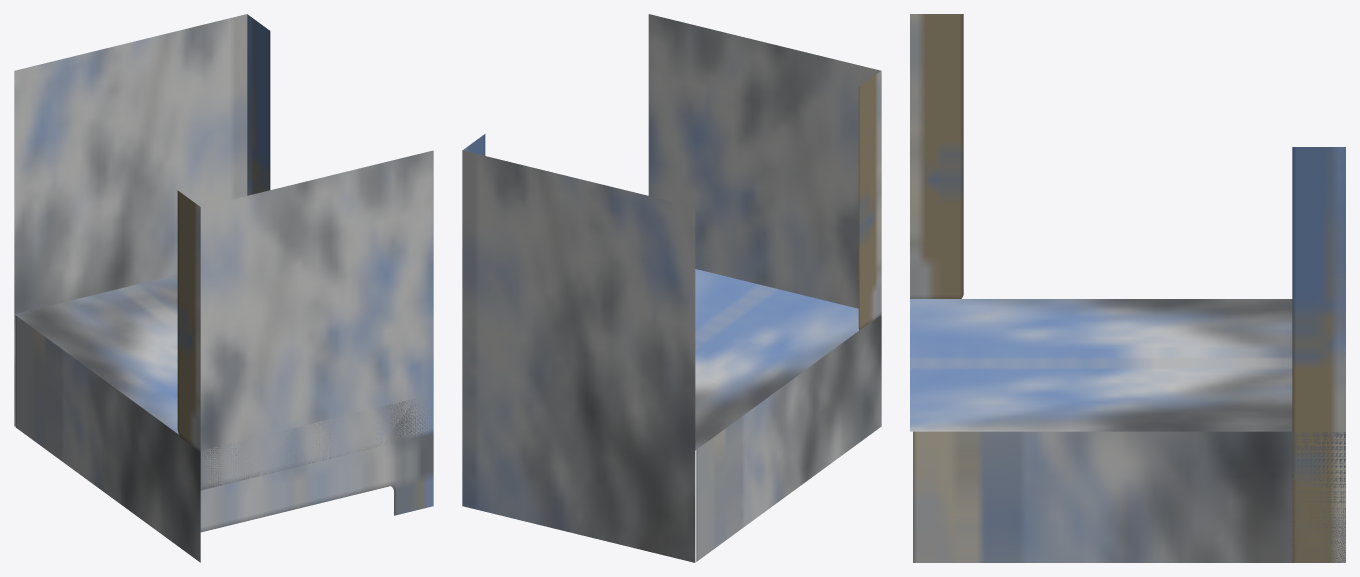
File: section-2.obj
3 renders of one model, left to right at view 1: azimuth 30°, elevation 25°; view 2: azimuth 150°, elevation 25°; view 3: azimuth 270°, elevation 25°, orthographic. The views are drawn at different scales.
Size of the model in its own units: 0.6972 by 1.02 by 0.967.
